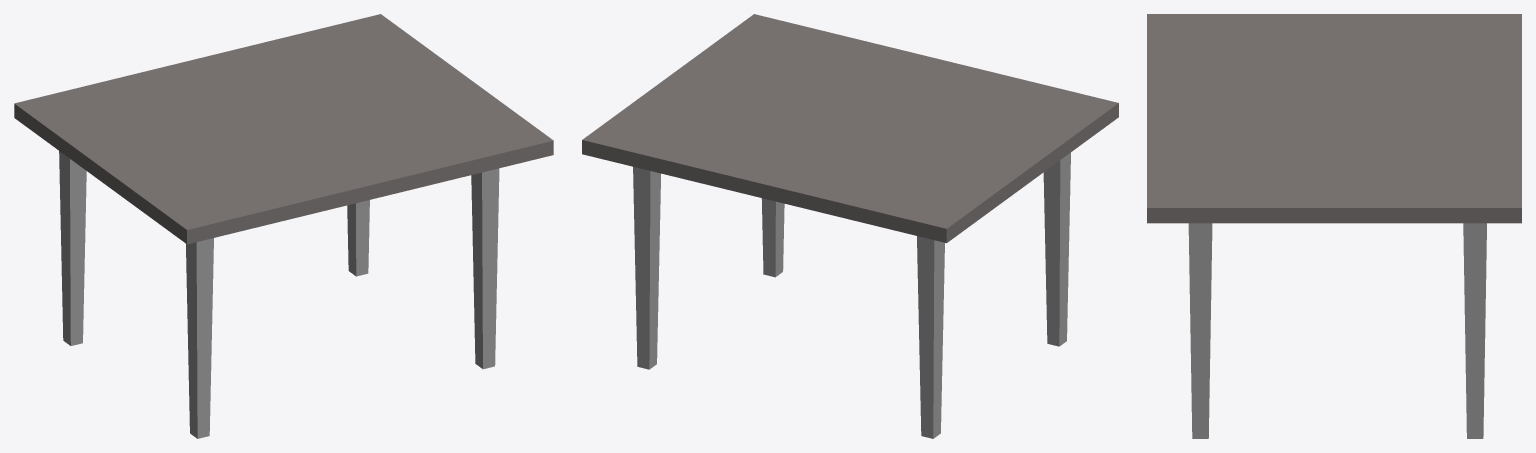
File: SM_Table_02.FBX
The picture shows the model from 3 angles, left to right: view 1: azimuth 30°, elevation 25°; view 2: azimuth 150°, elevation 25°; view 3: azimuth 270°, elevation 25°; orthographic projection. The views are drawn at different scales.
Parts seen in each view (by area): view 1: SM_Table_02; view 2: SM_Table_02; view 3: SM_Table_02.
Part boxes in pixels (x1,y1,x2,y2): SM_Table_02: [14, 14, 553, 438]; SM_Table_02: [582, 14, 1118, 438]; SM_Table_02: [1147, 14, 1521, 438].
Size of the model in its own units: 166 by 136 by 101.
